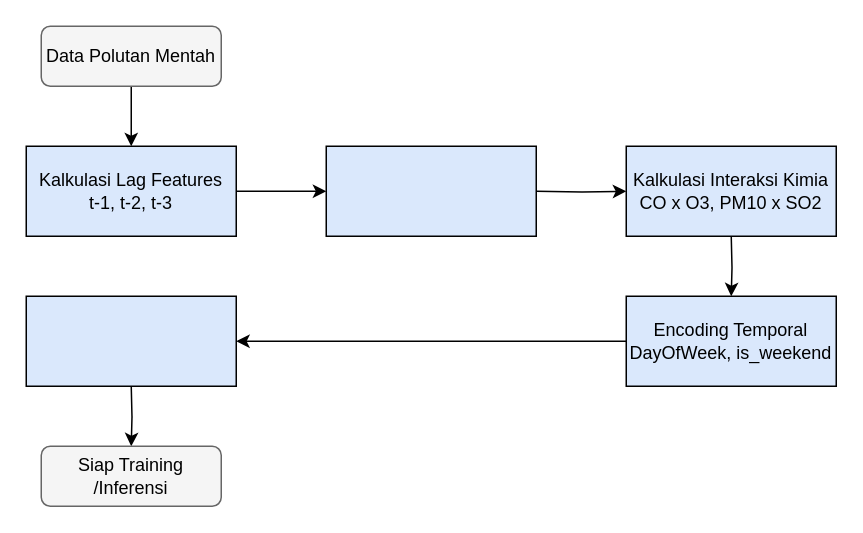
Some shapes in this 863 by 533 pixel diagram are drawn without their labels. The centre of each missing label's shape, as x and y in pixels:
"Kalkulasi Rolling Stats Mean, Std, Max 7-Hari" belongs at (x=430, y=190).
"Penggabungan Matriks 15 Kolom Fitur" belongs at (x=130, y=340).
